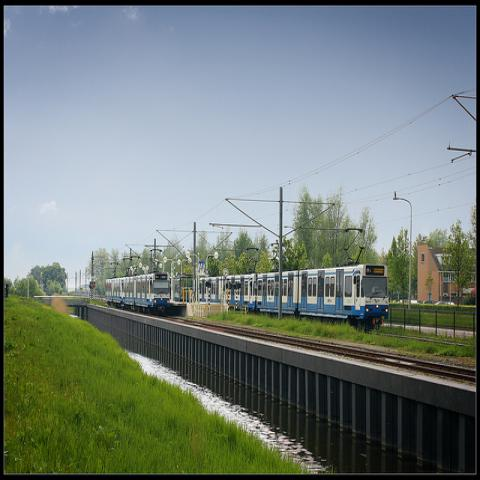car: (424, 300, 436, 304), (435, 301, 445, 305)
